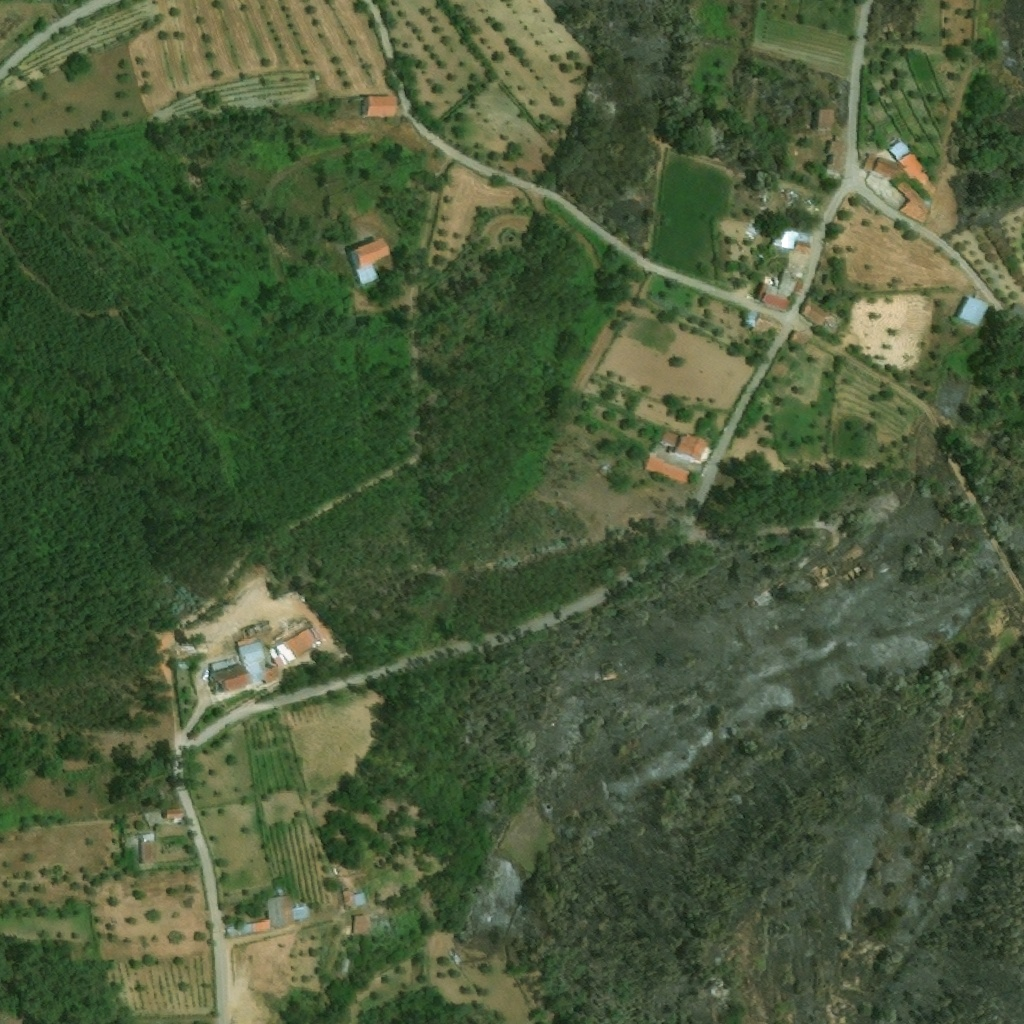0 no-damage: (872, 153, 938, 225), (209, 640, 279, 696), (243, 895, 308, 935), (345, 238, 394, 285), (658, 430, 712, 466), (756, 270, 799, 313), (799, 300, 846, 331), (276, 628, 318, 662), (643, 456, 690, 485), (954, 295, 990, 327), (742, 310, 782, 335), (780, 229, 814, 254), (358, 97, 394, 119), (888, 139, 910, 160), (340, 890, 364, 909), (139, 834, 154, 864), (211, 656, 240, 671), (334, 959, 350, 983), (818, 105, 833, 130), (227, 633, 249, 648), (788, 331, 806, 346), (124, 836, 139, 854), (351, 917, 364, 936), (166, 809, 184, 821)
3 destroyed: (840, 563, 867, 583), (760, 590, 776, 603)
4 un-classified: (1010, 302, 1023, 320)
